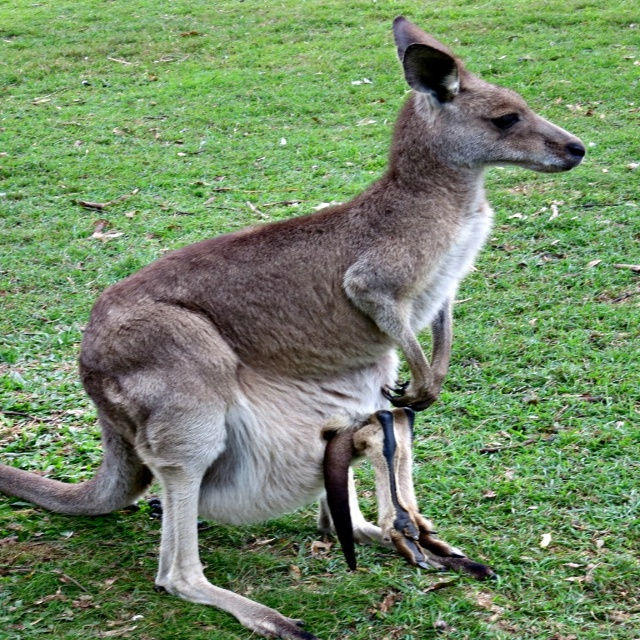Kangaroo: (0, 18, 586, 640)
